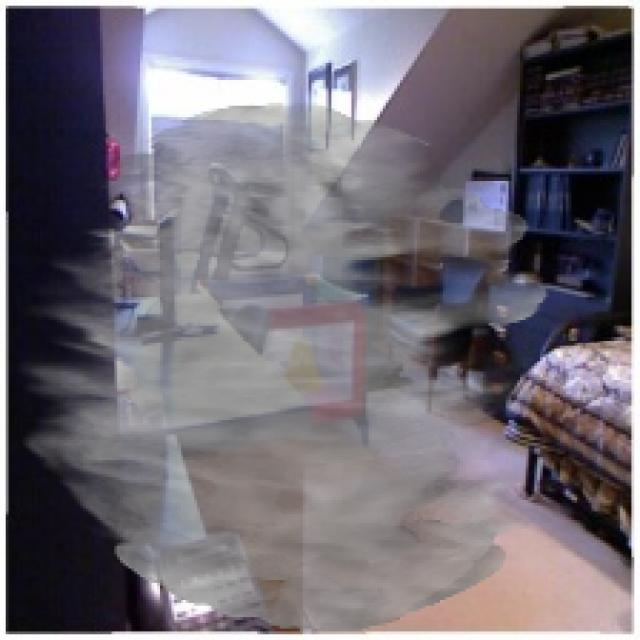smoke: (17, 103, 549, 631)
